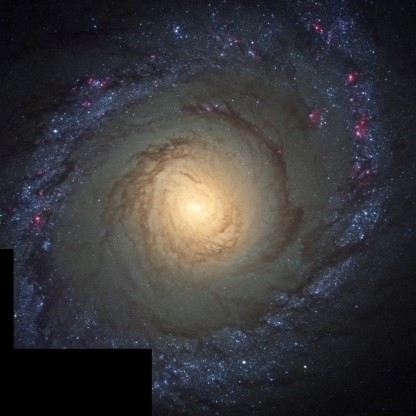Messier 94: (9, 13, 404, 405)
